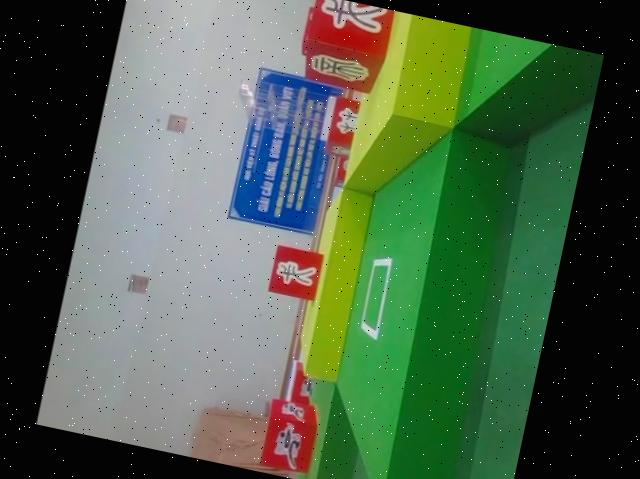R1: (257, 395, 328, 476)
R2 Fake: (297, 0, 396, 94), (266, 242, 326, 301)
